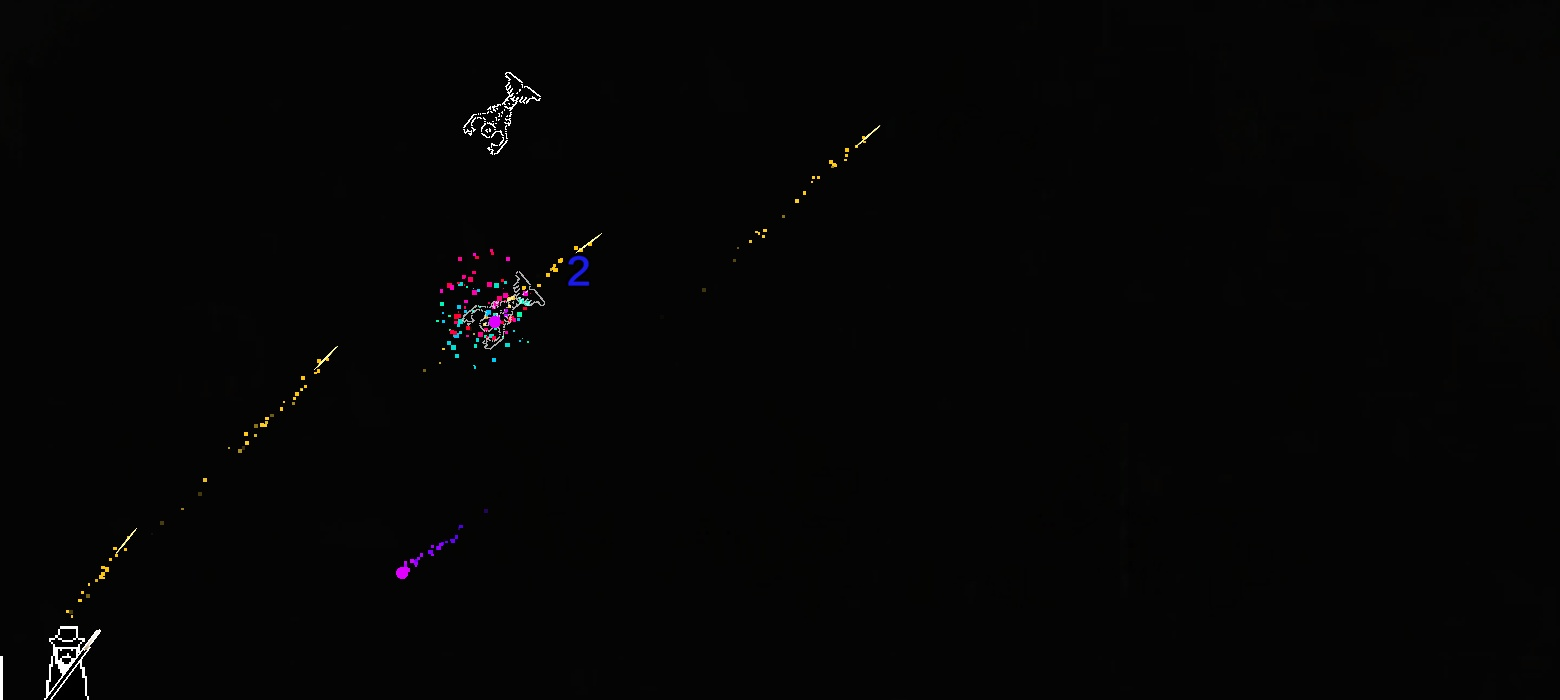enemy: (462, 271, 546, 350), (463, 72, 541, 156)
